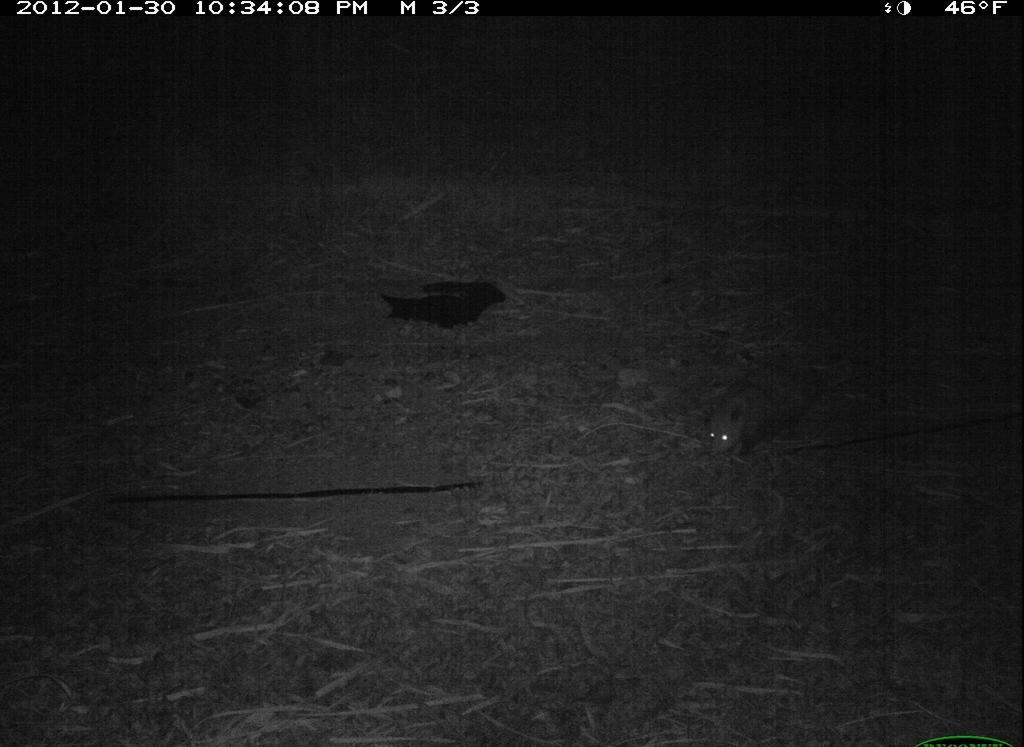opossum: (694, 358, 821, 466)
